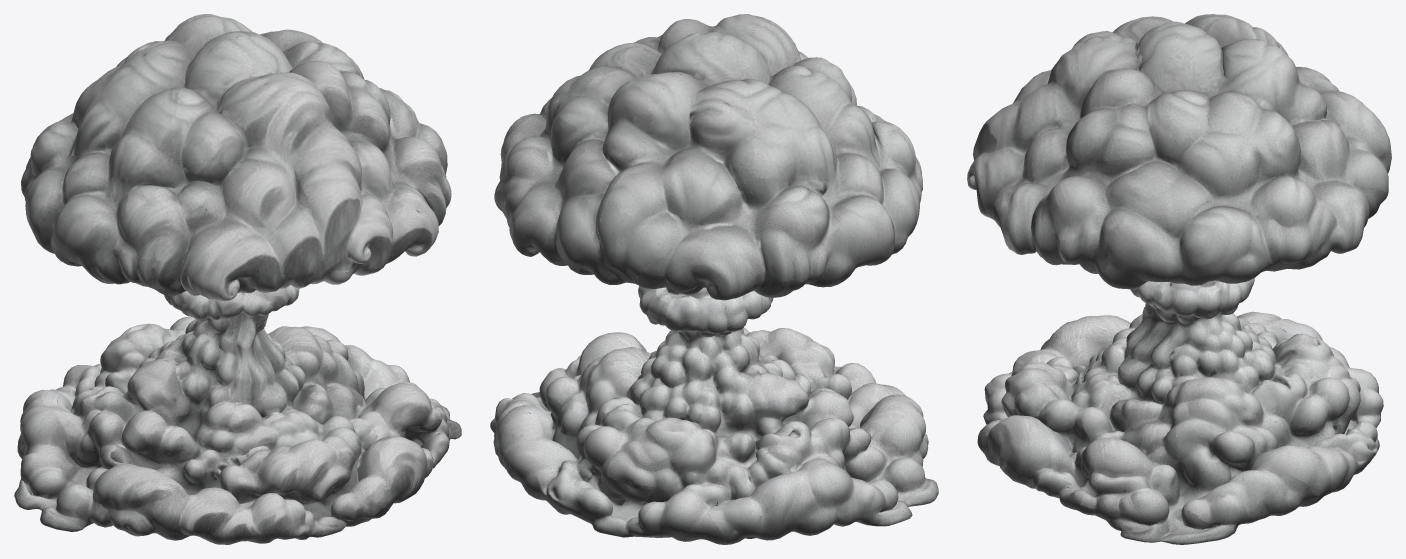
Rendered from mushroom-cloud.glb.
3 views of the same model, side by side, from view 1: azimuth 30°, elevation 25°; view 2: azimuth 150°, elevation 25°; view 3: azimuth 270°, elevation 25° (orthographic). The views are drawn at different scales.
Parts seen in each view (by area): view 1: Mushroom cloud | optimized Meshy sculpture; view 2: Mushroom cloud | optimized Meshy sculpture; view 3: Mushroom cloud | optimized Meshy sculpture.
Boxes of the visible parts, left/top/right/bottom form: Mushroom cloud | optimized Meshy sculpture: left=14, top=14, right=461, bottom=544; Mushroom cloud | optimized Meshy sculpture: left=490, top=14, right=938, bottom=544; Mushroom cloud | optimized Meshy sculpture: left=967, top=14, right=1391, bottom=544.
Bounding box in the file's own units: 92.49 × 90 × 82.91.
1 material, 1 textured.
